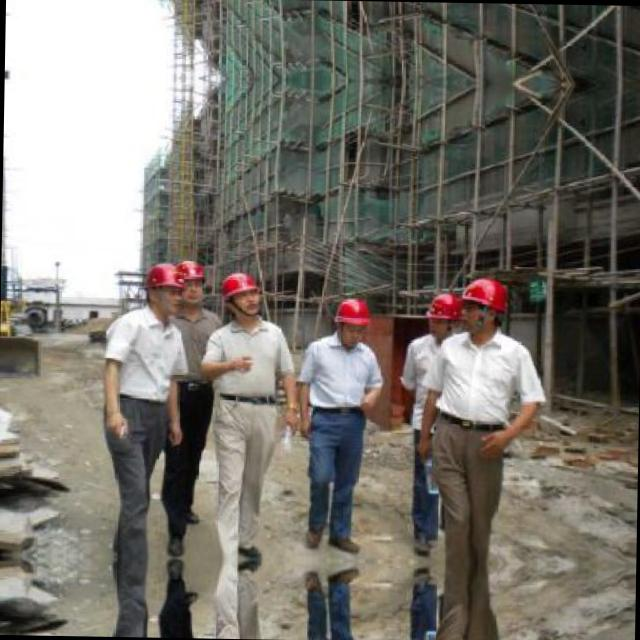helmet: (458, 276, 507, 336), (140, 258, 184, 314), (217, 268, 264, 320), (330, 296, 368, 346), (422, 291, 460, 341), (174, 258, 204, 303)
